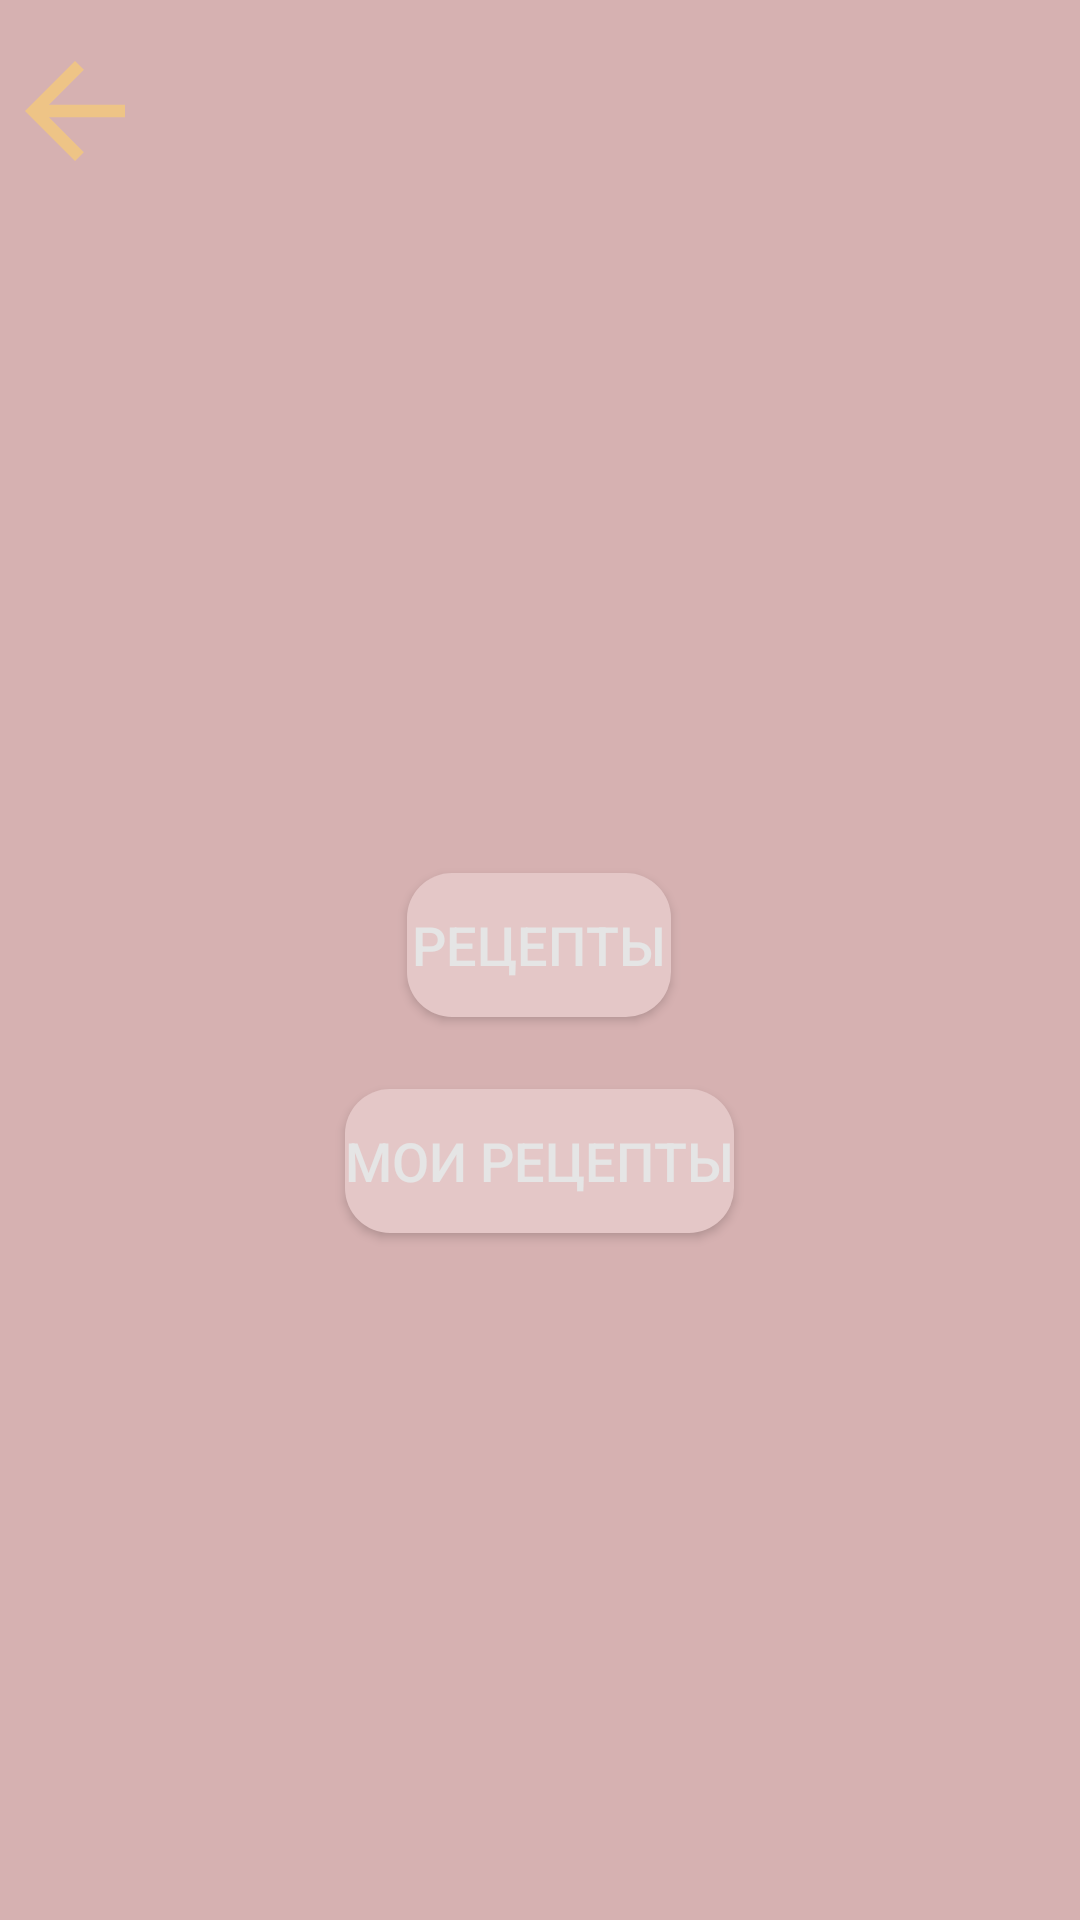

Screen size 1080x1920. Icon name, then its center in pixels as [x,y]:
arrow back: [75,111]
